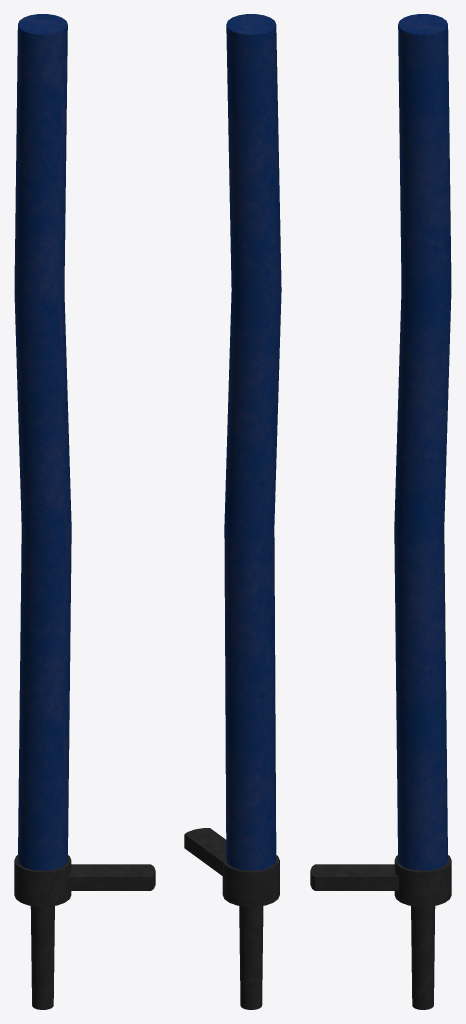
The model's file is slalom01.fbx.
3 renders of one model, left to right at view 1: azimuth 90°, elevation 25°; view 2: azimuth 210°, elevation 25°; view 3: azimuth 270°, elevation 25°, orthographic.
Visible parts, largest first — view 1: slalom01; view 2: slalom01; view 3: slalom01.
Part boxes in pixels (x1,y1,x2,y2): slalom01: (14,14,155,1009); slalom01: (184,14,281,1009); slalom01: (310,14,451,1009).
Size of the model in its own units: 4.55 by 86.59 by 11.31.
